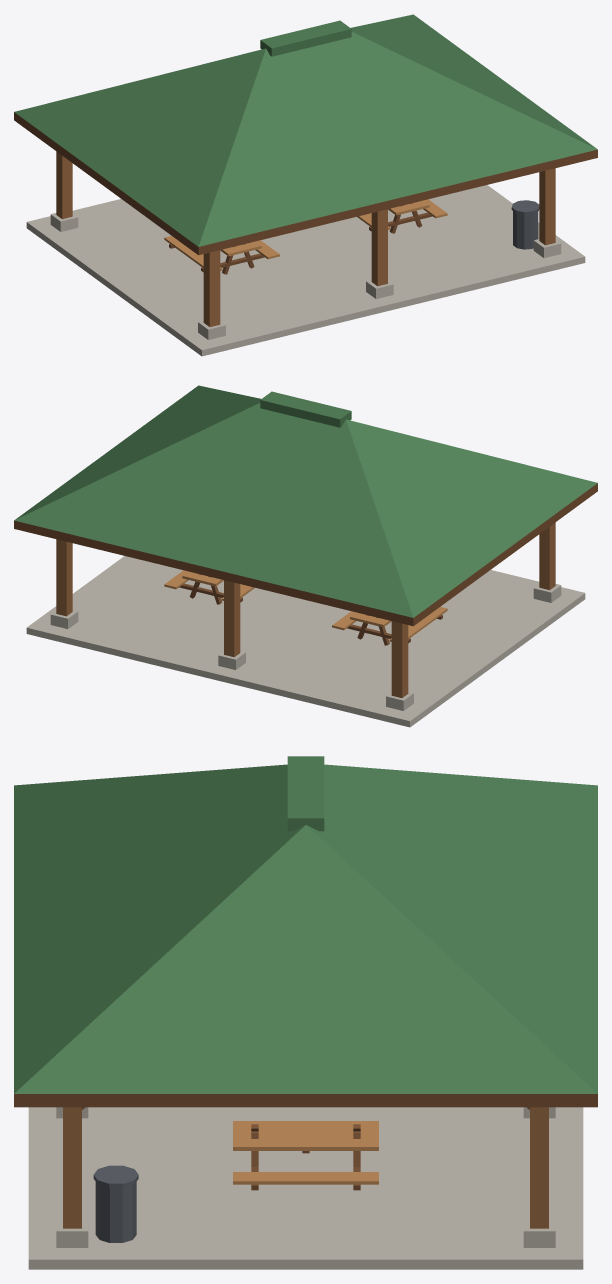
Rendered from bld_pavilion.glb.
3 renders of one model, top to bottom at view 1: azimuth 30°, elevation 25°; view 2: azimuth 150°, elevation 25°; view 3: azimuth 270°, elevation 25°, orthographic. The views are drawn at different scales.
Visible parts, largest first — view 1: bld_pavilion; view 2: bld_pavilion; view 3: bld_pavilion.
Part boxes in pixels (x1,y1,x2,y2): bld_pavilion: [14, 14, 597, 356]; bld_pavilion: [14, 385, 597, 727]; bld_pavilion: [14, 756, 597, 1269].
Size of the model in its own units: 10 by 5.05 by 8.
